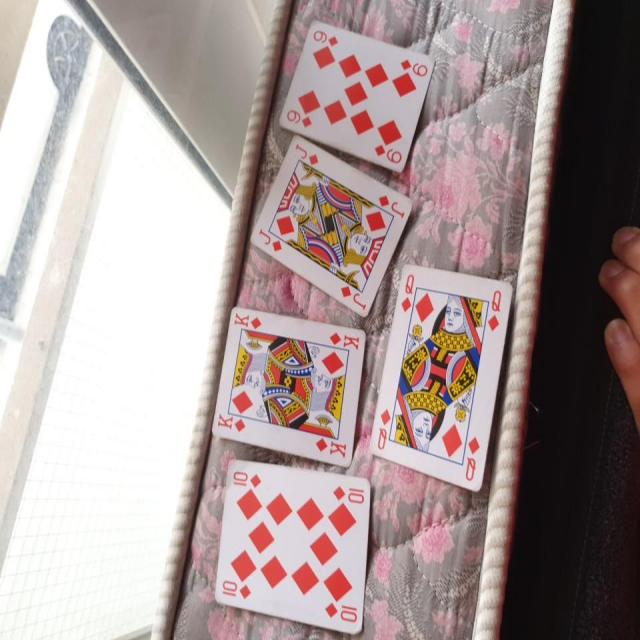10 Diamonds: (212, 453, 372, 634)
9 Diamonds: (276, 17, 436, 174)
J Diamonds: (246, 134, 414, 318)
K Diamonds: (210, 305, 366, 467)
Q Diamonds: (368, 262, 514, 491)
